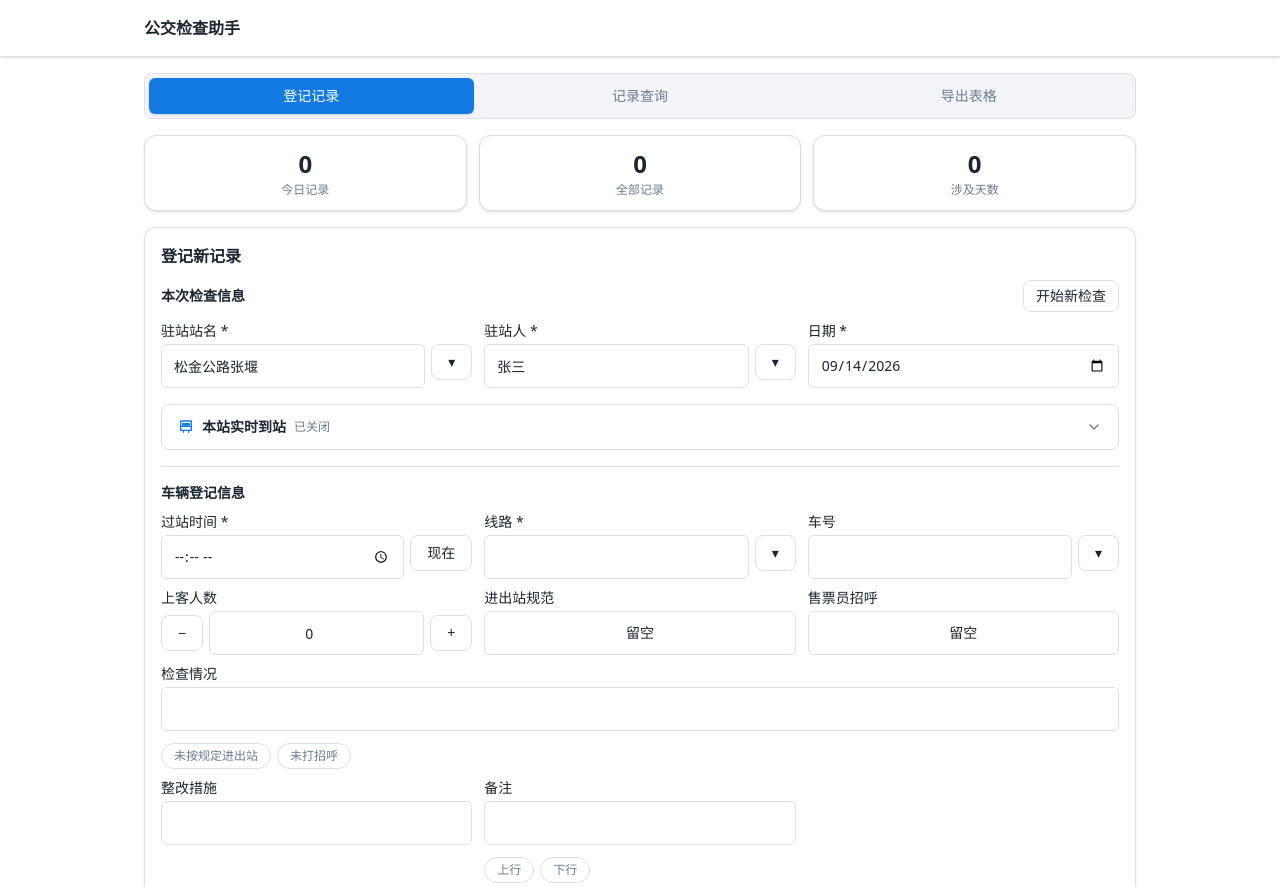
Test: 驻站实时到站面板 › 已关闭时说明原因而不是要求重新配置
Click the text "本站实时到站" at (244, 427), box [202,417,286,437]
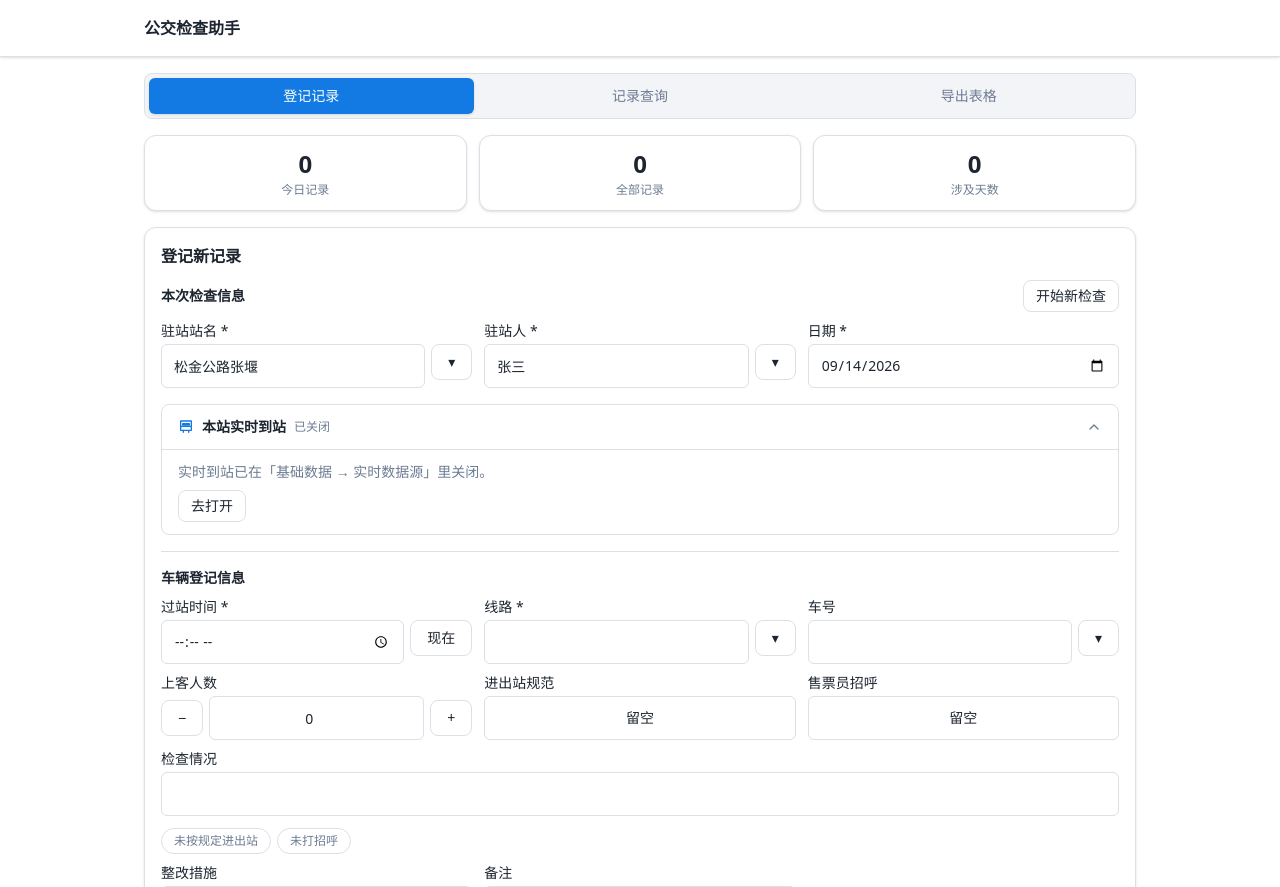
Expected: the text "已关闭" is shown, [294,419,330,435]
Now the text "实时到站已在「基础数据 → 实时数据源」里关闭。" is shown, box [178,462,493,481]
